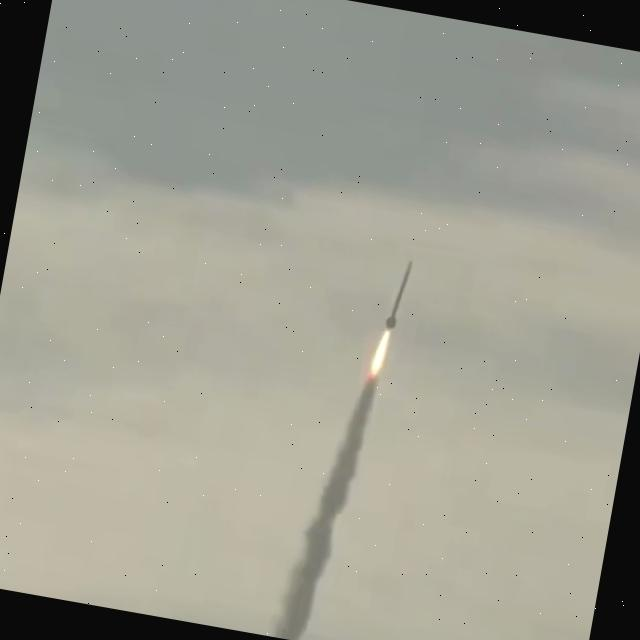rocket: (385, 261, 411, 327)
smoke_trail_with_rocket: (272, 261, 410, 640)
